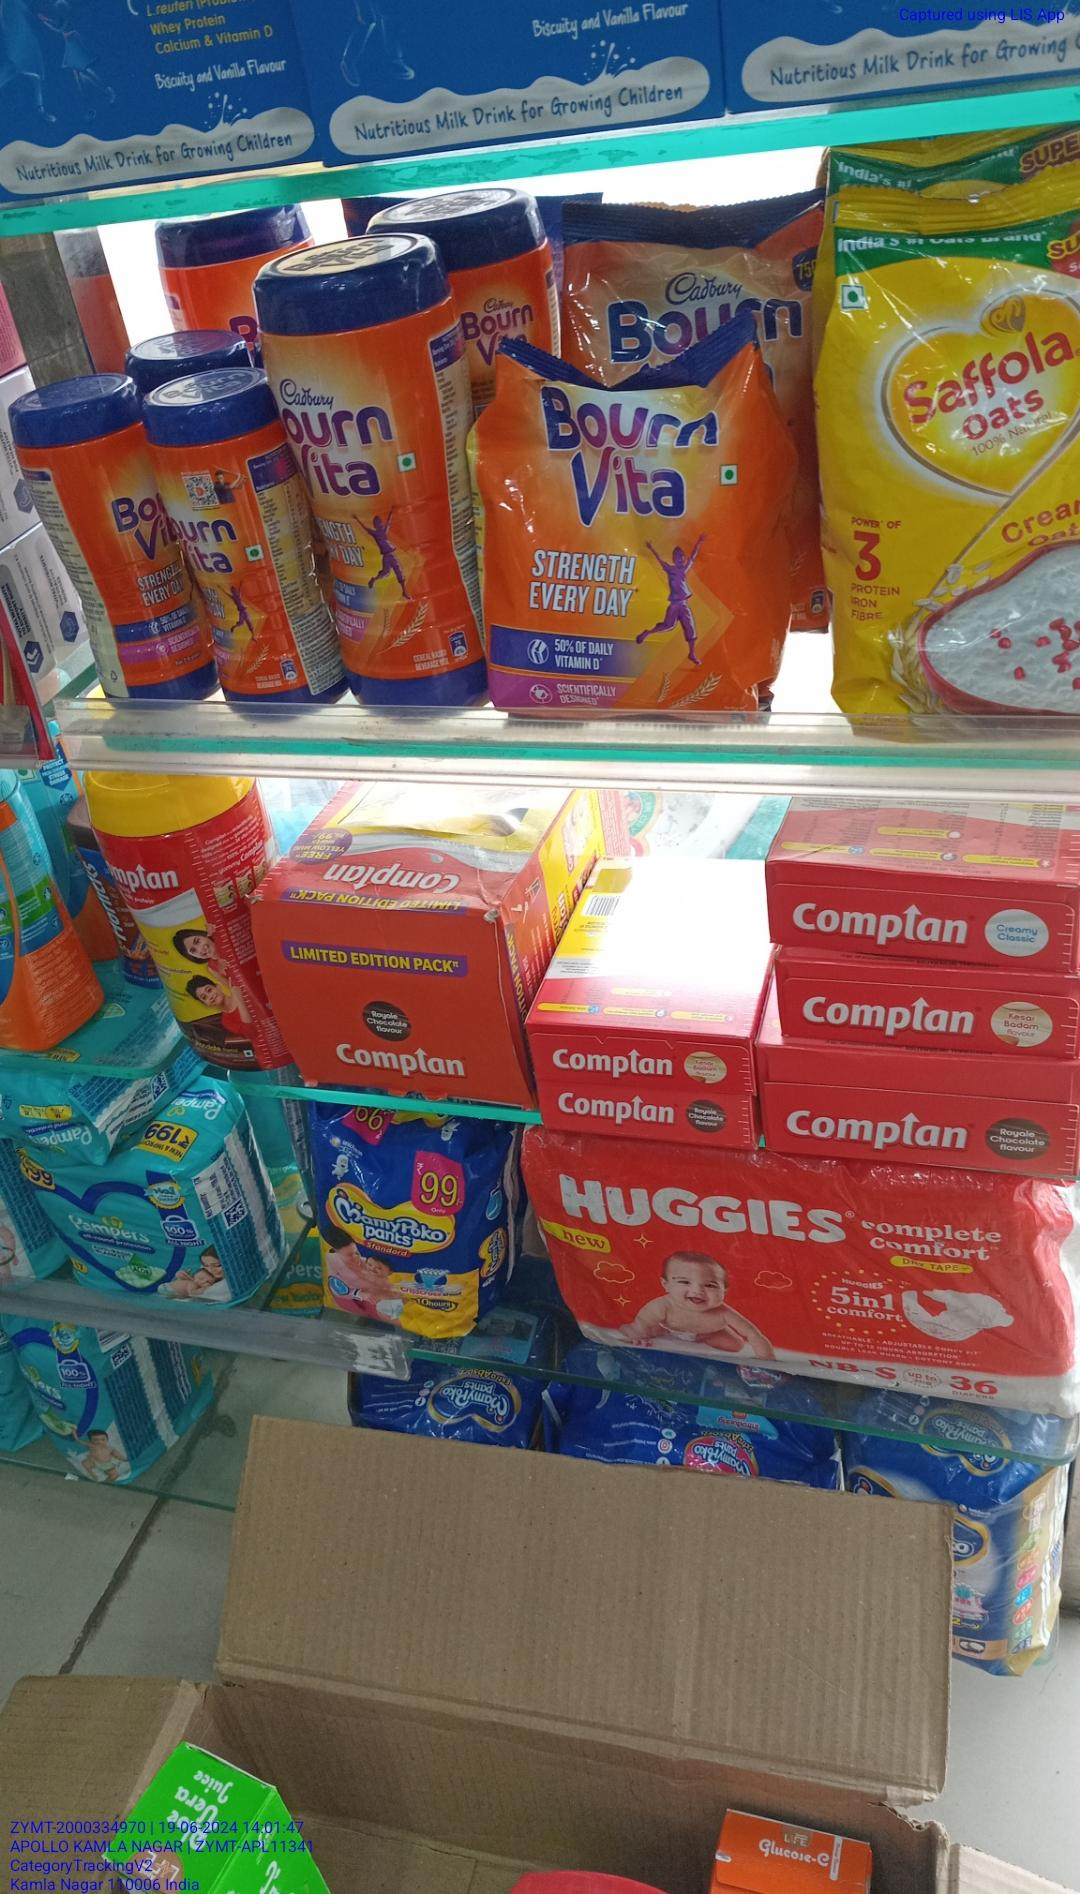BOURN_VITA_200_G_JAR: (163, 393, 280, 725), (66, 362, 160, 715)
COMPLAN_CHOCOLATE_500_GMS_JAR: (103, 765, 238, 1086)
